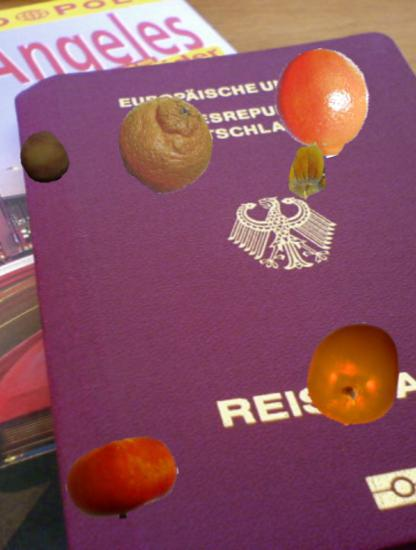Mandarine: (116, 95, 215, 194)
Nectarine: (65, 422, 179, 536)
Peach: (18, 132, 70, 184)
Physalis: (277, 142, 336, 201)
Tangelo: (268, 49, 377, 158)
Tomato: (301, 321, 406, 426)
